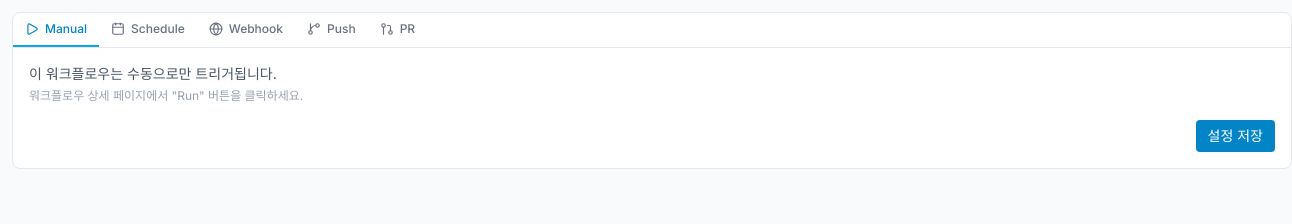
Scenario: TriggerConfigPanel › shows webhook tab with URL on click
The width and height of the screenshot is (1292, 224).
Click the button "Webhook" at (246, 30), box [197,13,295,47]
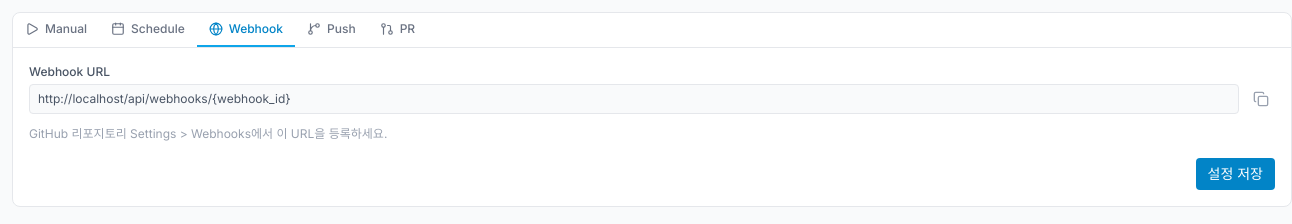
Expected: the text "Webhook URL" is shown, [29,64,110,79]
